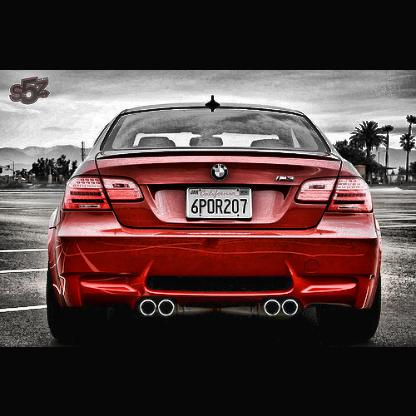BMW M3 Coupe 2012: (45, 96, 383, 344)
